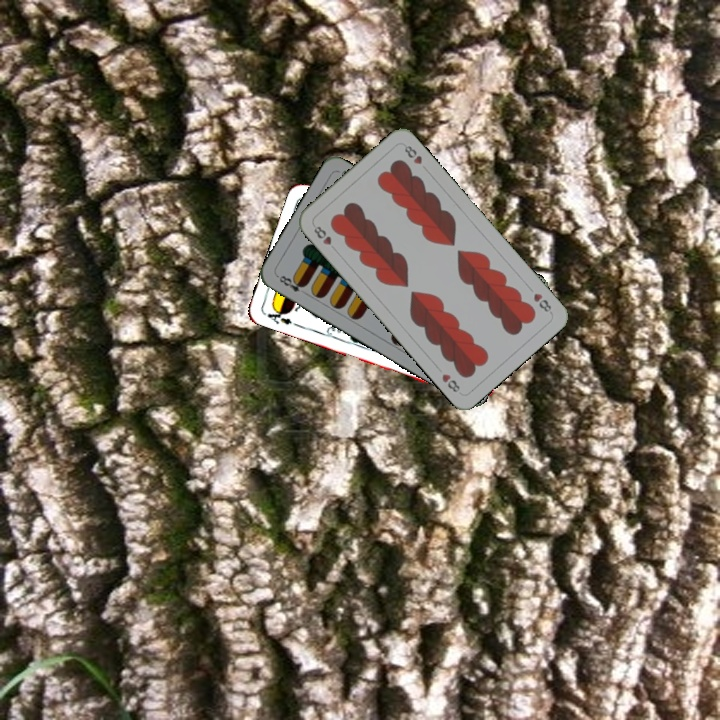E8: (273, 271, 308, 295)
EA: (263, 304, 294, 327)
H8: (310, 222, 340, 254), (529, 289, 555, 316)
